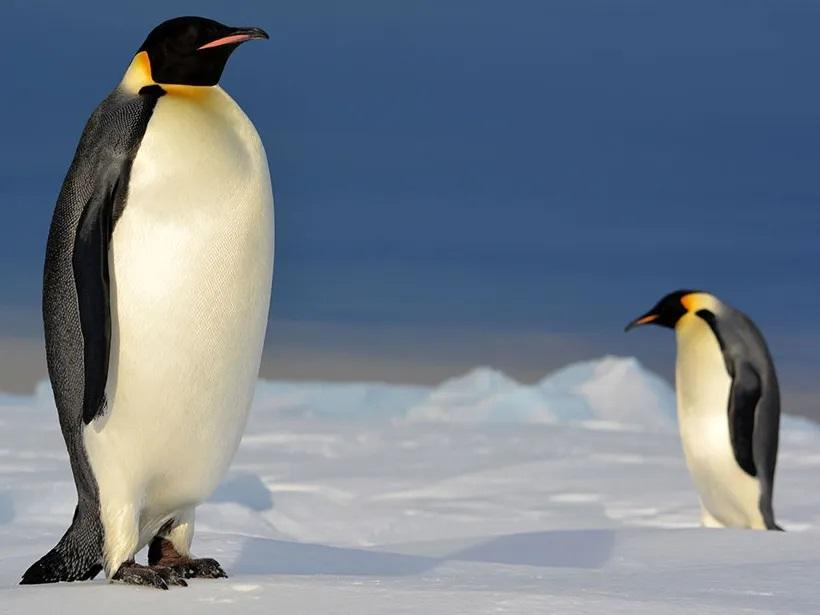emporer: (15, 11, 297, 608), (610, 280, 804, 554)
